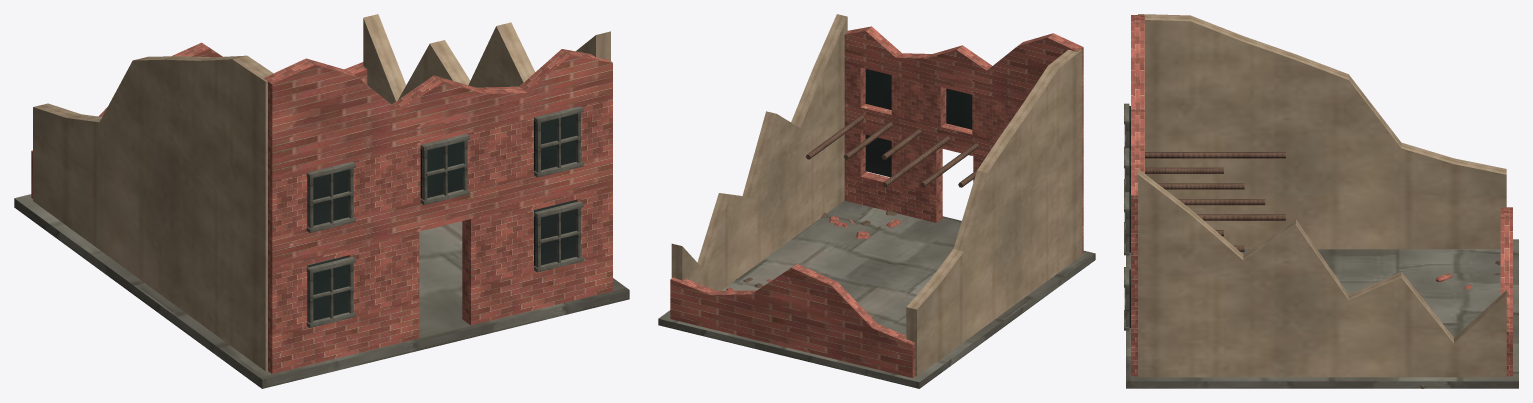
Rendered from town-ruin.glb.
3 views of the same model, side by side, from view 1: azimuth 30°, elevation 25°; view 2: azimuth 150°, elevation 25°; view 3: azimuth 270°, elevation 25° (orthographic). The views are drawn at different scales.
Visible parts, largest first — view 1: Stadtruine; view 2: Stadtruine; view 3: Stadtruine.
Boxes of the visible parts, x1,y1,x2,y2 form: Stadtruine: (14,14,629,388); Stadtruine: (658,14,1095,388); Stadtruine: (1124,14,1518,388).
Bounding box in the file's own units: 8.34 × 6.65 × 9.74.
Materials: 1 (1 with a texture image).
